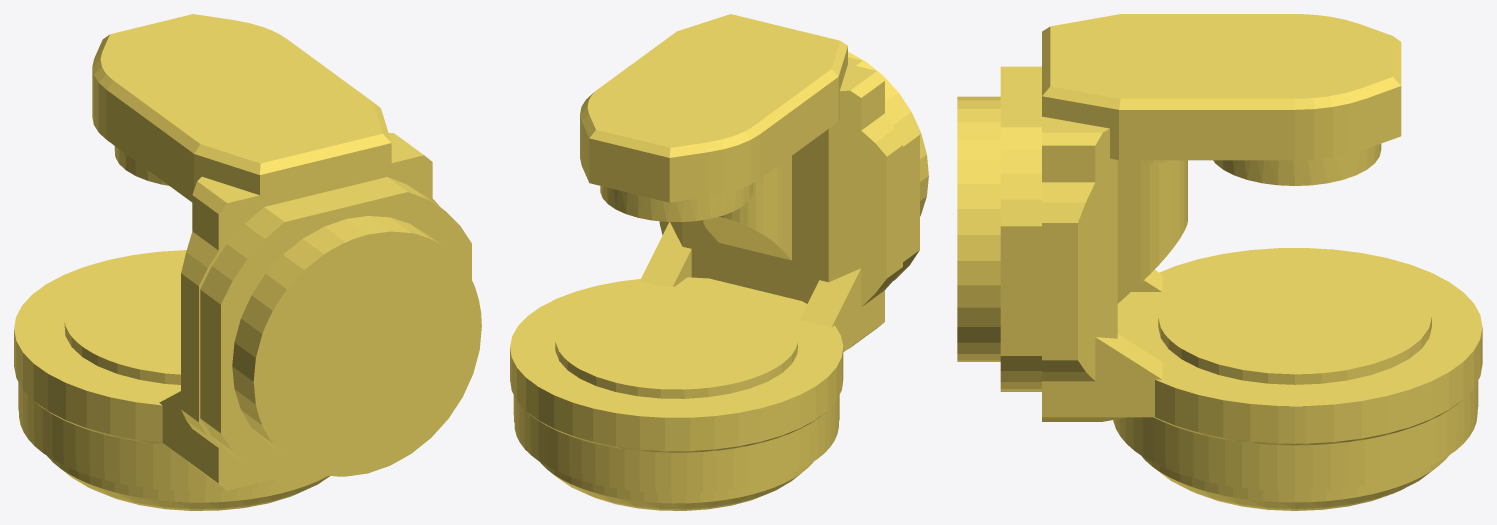
3 renders of one model, left to right at view 1: azimuth 30°, elevation 25°; view 2: azimuth 150°, elevation 25°; view 3: azimuth 270°, elevation 25°, orthographic. The views are drawn at different scales.
Visible parts, largest first — view 1: /Link5/Link5_002-mesh/0; view 2: /Link5/Link5_002-mesh/0; view 3: /Link5/Link5_002-mesh/0.
Boxes of the visible parts, x1,y1,x2,y2 form: /Link5/Link5_002-mesh/0: (14, 14, 481, 510); /Link5/Link5_002-mesh/0: (510, 14, 928, 510); /Link5/Link5_002-mesh/0: (957, 14, 1482, 510).
Bounding box in the file's own units: 0.2258 × 0.265 × 0.3165.
